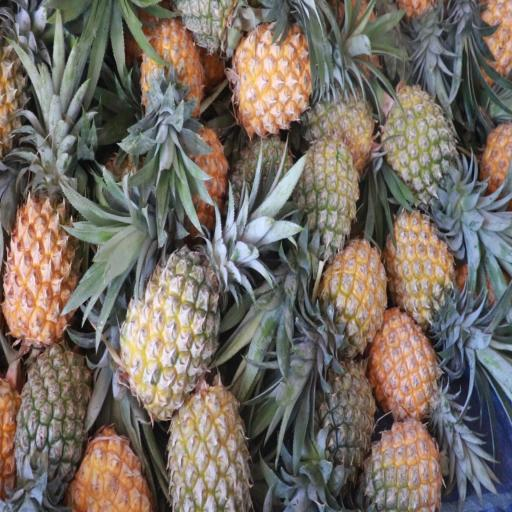------------------------------: (122, 255, 224, 408), (169, 378, 250, 512)
Pineapple - v8 v1: (4, 193, 76, 346), (385, 211, 459, 325), (232, 26, 310, 132), (367, 310, 436, 422), (138, 18, 203, 122), (326, 243, 387, 350), (72, 428, 148, 512), (176, 127, 226, 224)
